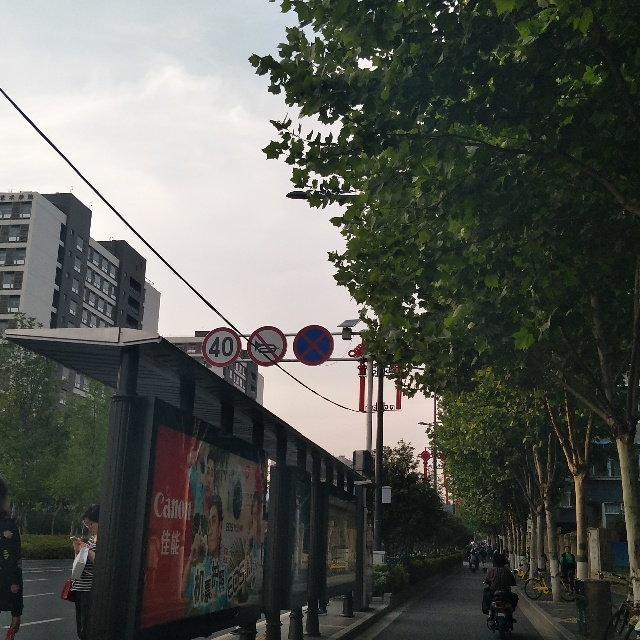nohonk: (245, 327, 289, 366)
stop: (294, 325, 333, 366)
